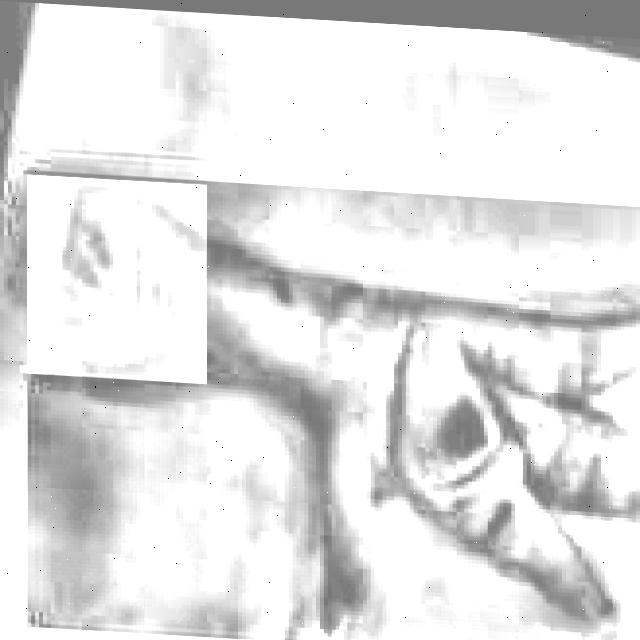Bumble foot: (35, 177, 640, 640)
